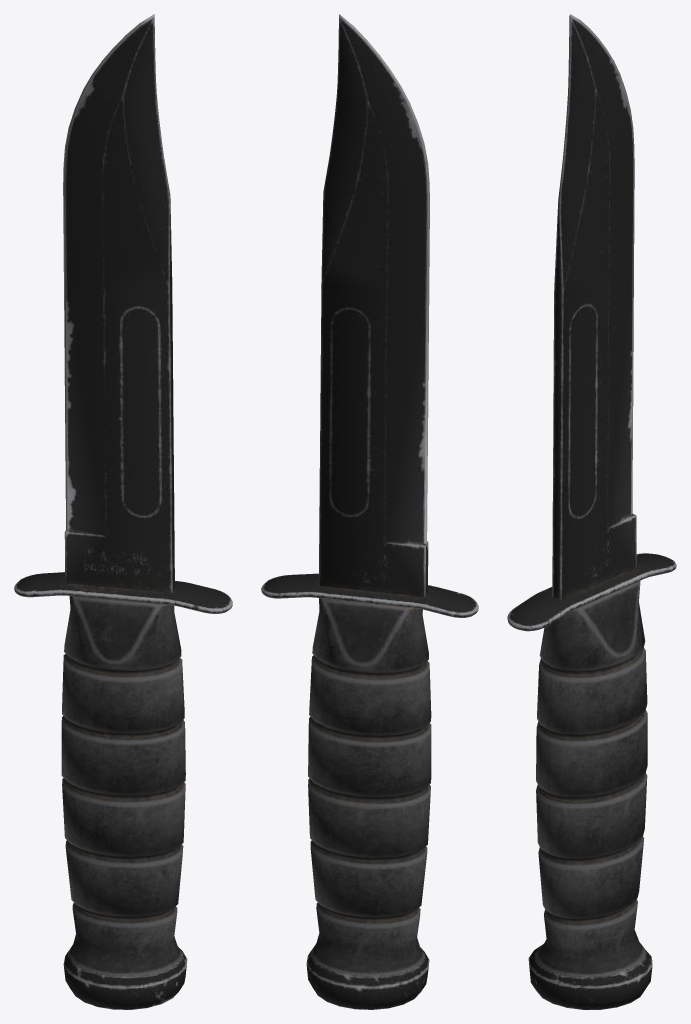
The model's file is knife.glb.
3 views of the same model, side by side, from view 1: azimuth 30°, elevation 25°; view 2: azimuth 210°, elevation 25°; view 3: azimuth 270°, elevation 25° (orthographic).
Parts seen in each view (by area): view 1: w_knife; view 2: w_knife; view 3: w_knife.
Part boxes in pixels (x1,y1,x2,y2): w_knife: (14, 14, 232, 1009); w_knife: (261, 14, 478, 1009); w_knife: (507, 14, 676, 1009).
Size of the model in its own units: 0.0538 by 0.3289 by 0.0513.
Materials: 1 (1 with a texture image).
